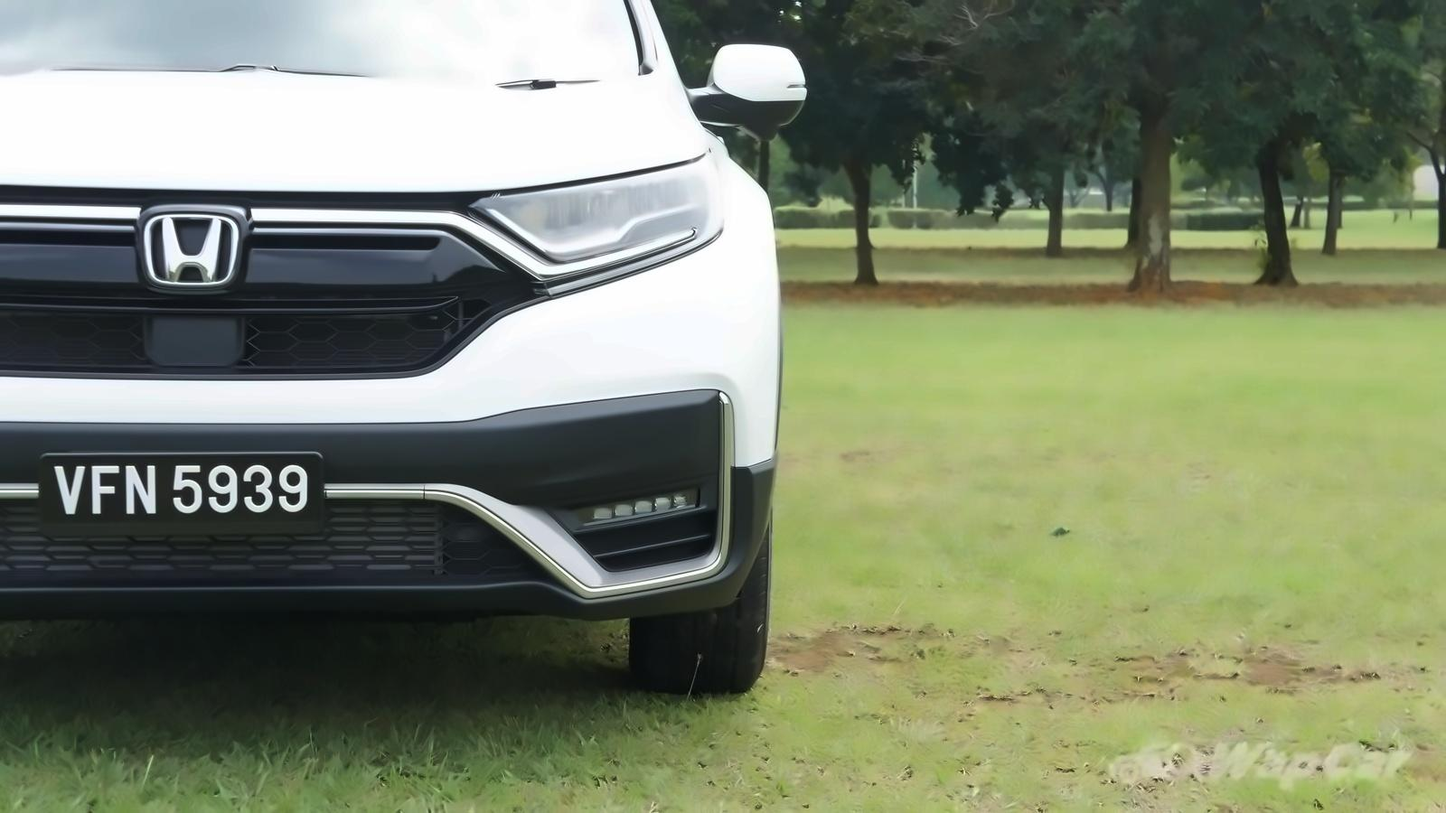Car hood: (1, 70, 714, 195)
Front bumper: (0, 244, 787, 621)
Headlight - -L-: (463, 150, 726, 302)
Side mirror - -L-: (681, 41, 808, 135)
